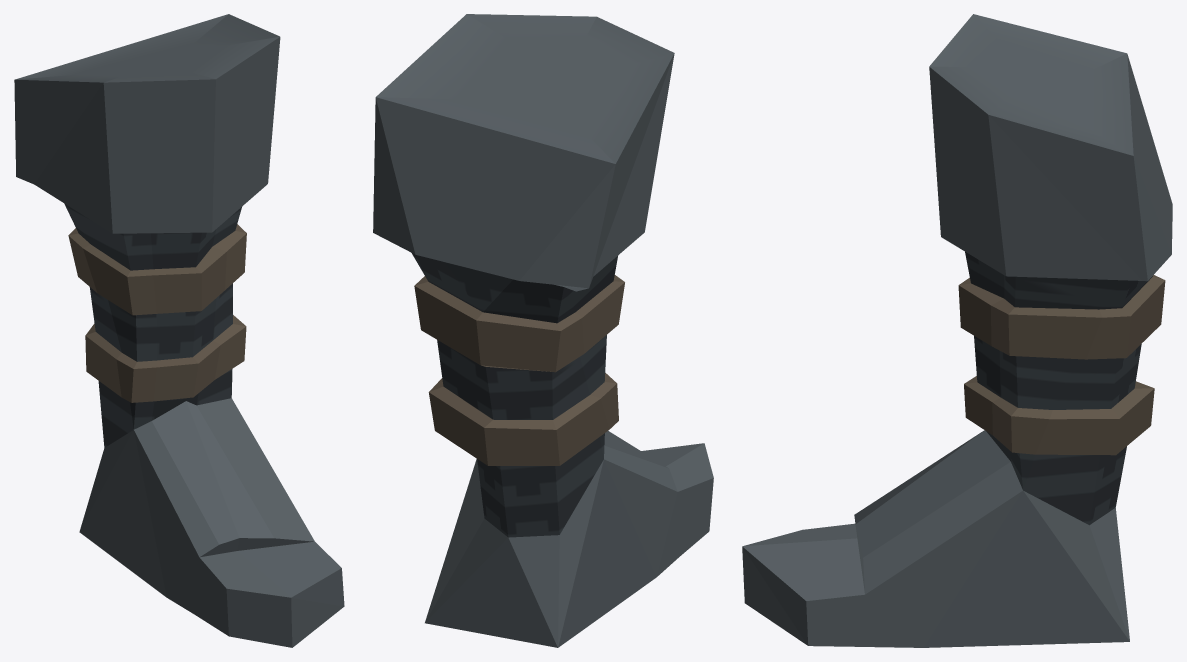
Rendered from Chr_LegLeft_Female_07_Static.fbx.
3 views of the same model, side by side, from view 1: azimuth 30°, elevation 25°; view 2: azimuth 150°, elevation 25°; view 3: azimuth 270°, elevation 25° (orthographic). The views are drawn at different scales.
Parts seen in each view (by area): view 1: Chr_LegLeft_Female_07_Static; view 2: Chr_LegLeft_Female_07_Static; view 3: Chr_LegLeft_Female_07_Static.
Boxes of the visible parts, x1,y1,x2,y2 form: Chr_LegLeft_Female_07_Static: (14,14,344,647); Chr_LegLeft_Female_07_Static: (373,14,713,647); Chr_LegLeft_Female_07_Static: (742,14,1172,647).
Bounding box in the file's own units: 0.1831 × 0.4088 × 0.2922.
